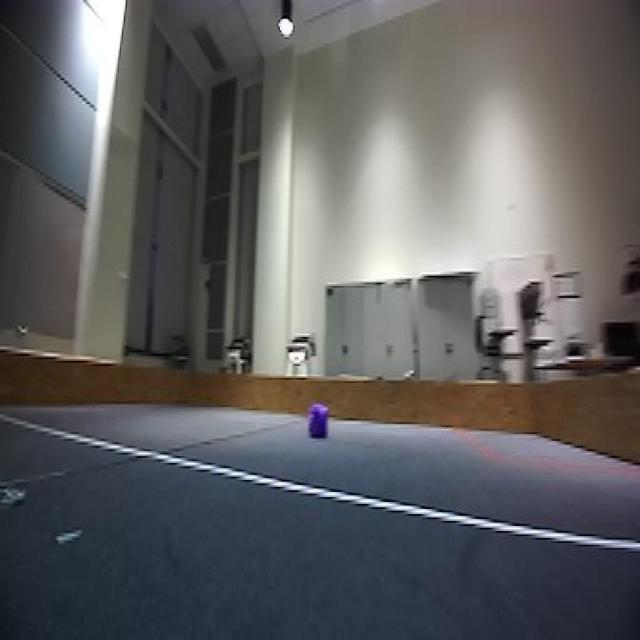frc_cube: (308, 400, 330, 439)
